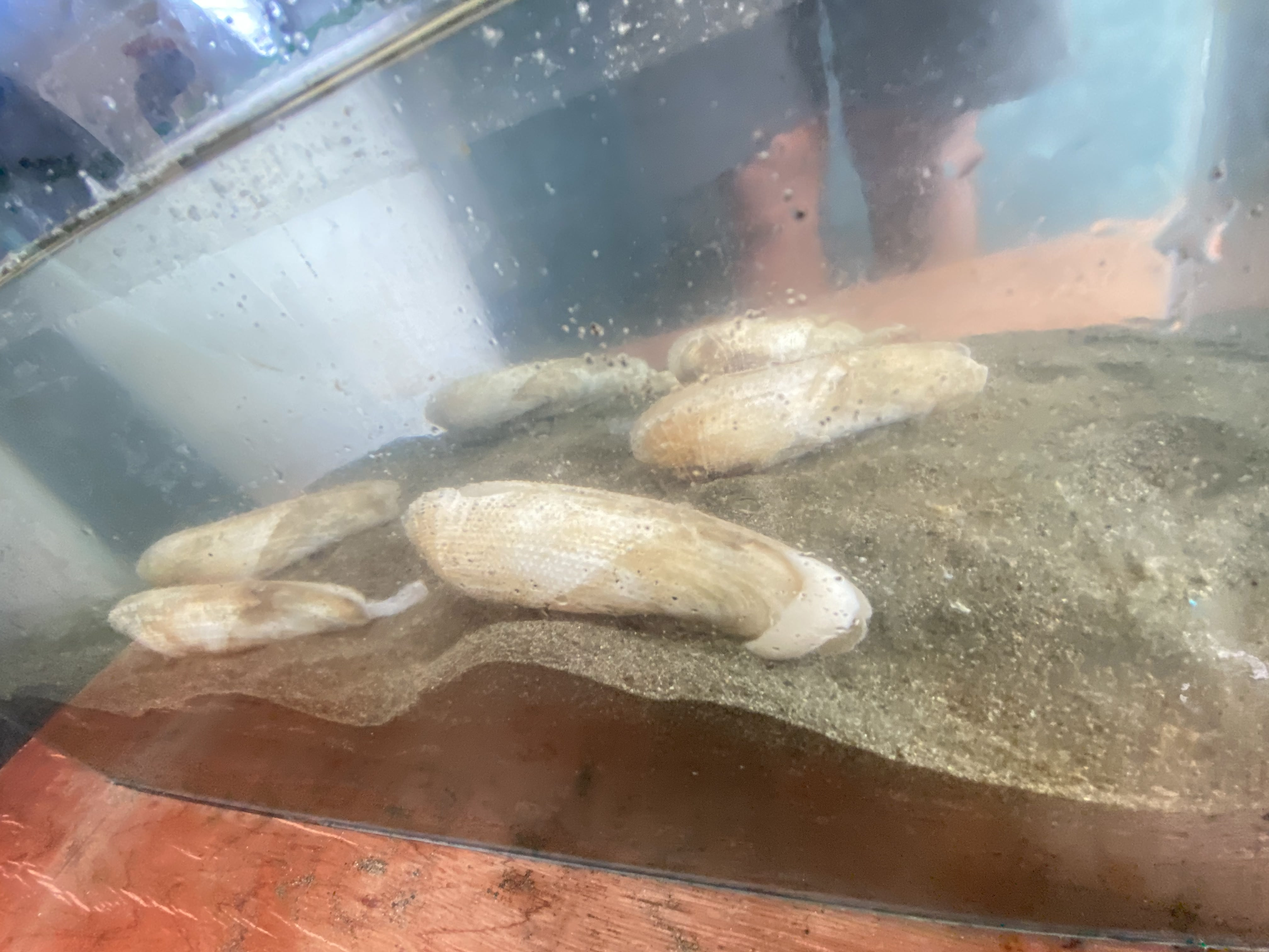At risk: (403, 481, 871, 660), (631, 345, 968, 475), (136, 480, 401, 586), (110, 581, 427, 656), (426, 354, 675, 432), (668, 316, 906, 382)
